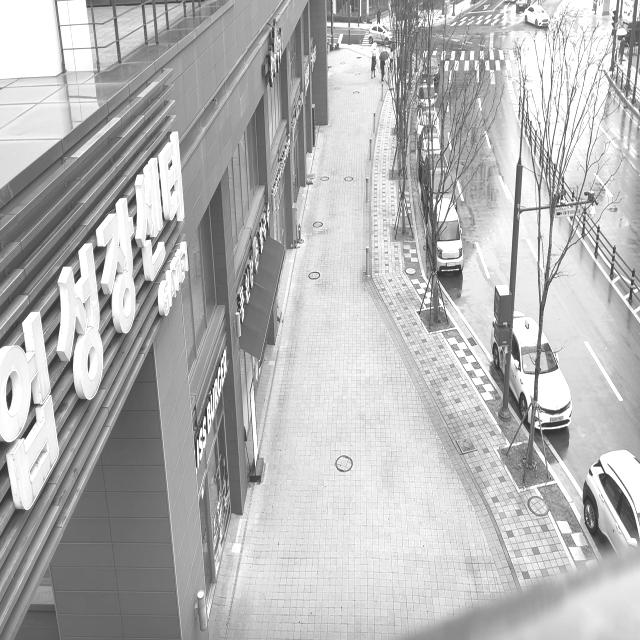Car: (485, 294, 582, 442), (570, 429, 640, 560), (422, 187, 464, 286), (418, 154, 462, 206), (416, 118, 458, 163), (415, 102, 447, 139), (417, 77, 442, 112), (524, 3, 554, 31), (366, 18, 392, 46), (420, 55, 445, 78)
